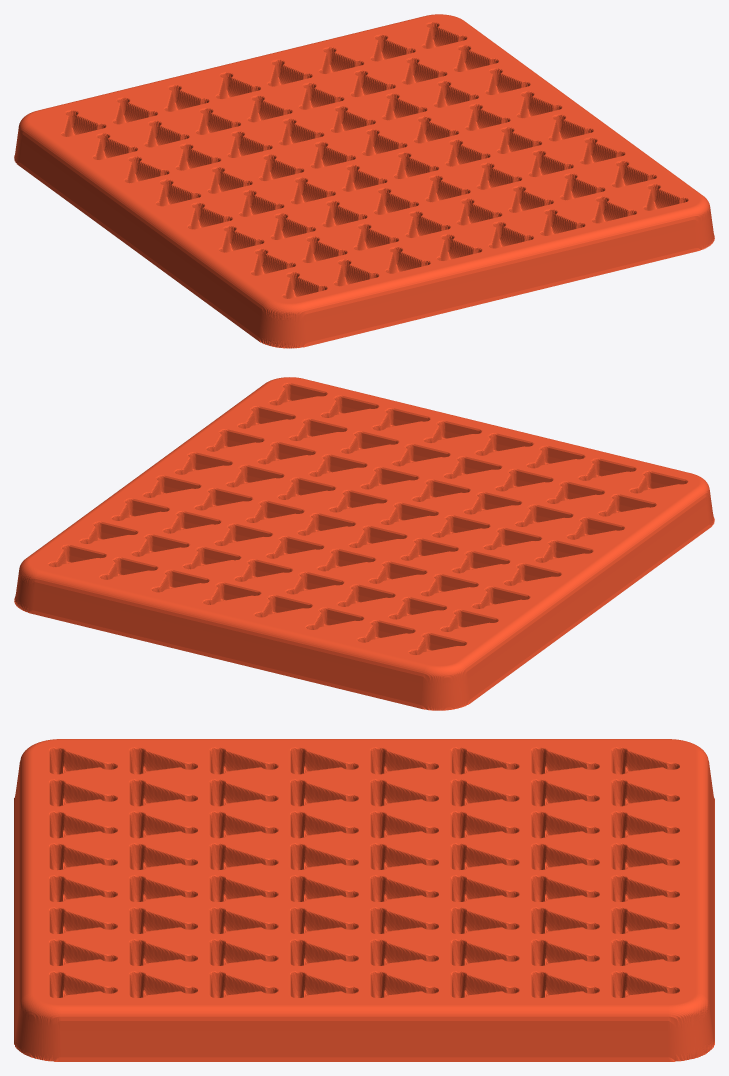
File: mold.glb
3 renders of one model, top to bottom at view 1: azimuth 30°, elevation 25°; view 2: azimuth 150°, elevation 25°; view 3: azimuth 270°, elevation 25°, orthographic. The views are drawn at different scales.
Visible parts, largest first — view 1: geometry_0; view 2: geometry_0; view 3: geometry_0.
Part boxes in pixels (x1=…): geometry_0: x1=14, y1=14, x2=714, y2=348; geometry_0: x1=14, y1=377, x2=714, y2=710; geometry_0: x1=14, y1=739, x2=714, y2=1061.
Size of the model in its own units: 0.1283 by 0.0105 by 0.1355.
